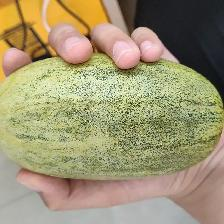gua: (8, 52, 218, 175)
